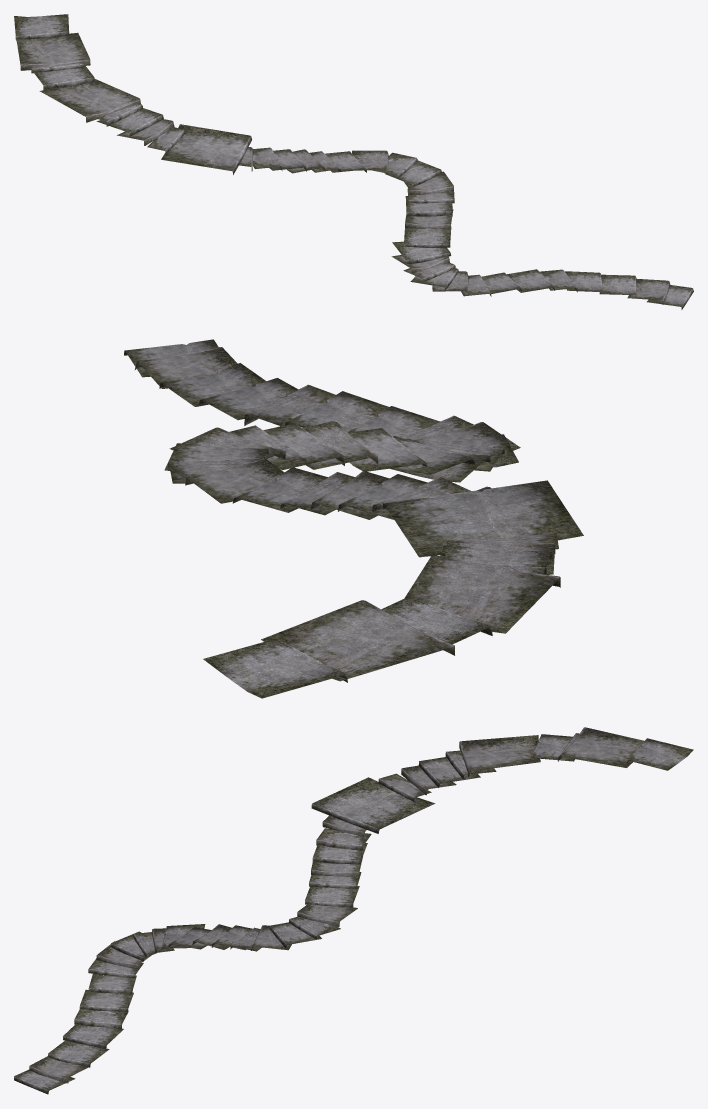
Rendered from SM_AsiaSteps.FBX.
The picture shows the model from 3 angles, top to bottom: view 1: azimuth 30°, elevation 25°; view 2: azimuth 150°, elevation 25°; view 3: azimuth 270°, elevation 25°; orthographic projection. The views are drawn at different scales.
Visible parts, largest first — view 1: SM_AsiaSteps; view 2: SM_AsiaSteps; view 3: SM_AsiaSteps.
Boxes of the visible parts, x1=… form: SM_AsiaSteps: x1=14, y1=14, x2=693, y2=309; SM_AsiaSteps: x1=124, y1=339, x2=583, y2=698; SM_AsiaSteps: x1=14, y1=727, x2=693, y2=1094.
Size of the model in its own units: 1865 by 2457 by 613.
